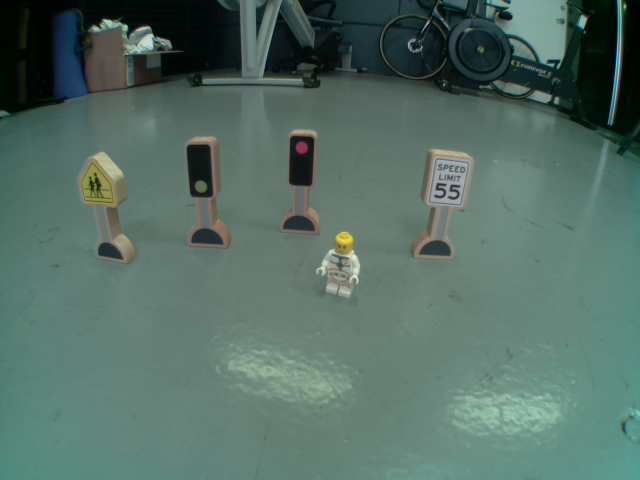Green Traffic Light: (184, 142, 216, 197)
Red Traffic Light: (283, 131, 316, 188)
Speed Limit 55: (425, 150, 470, 209)
YIELD: (76, 156, 119, 207)
person: (311, 228, 366, 300)
